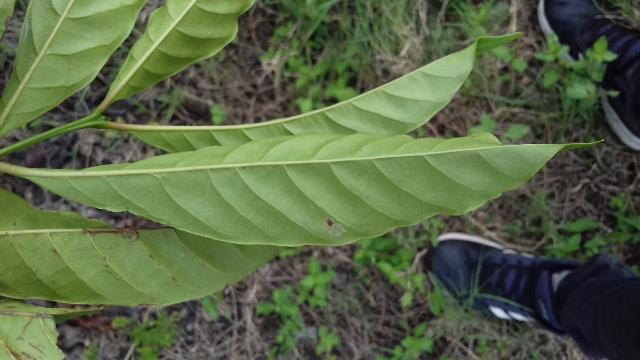rust_level_1: (28, 129, 615, 250)
